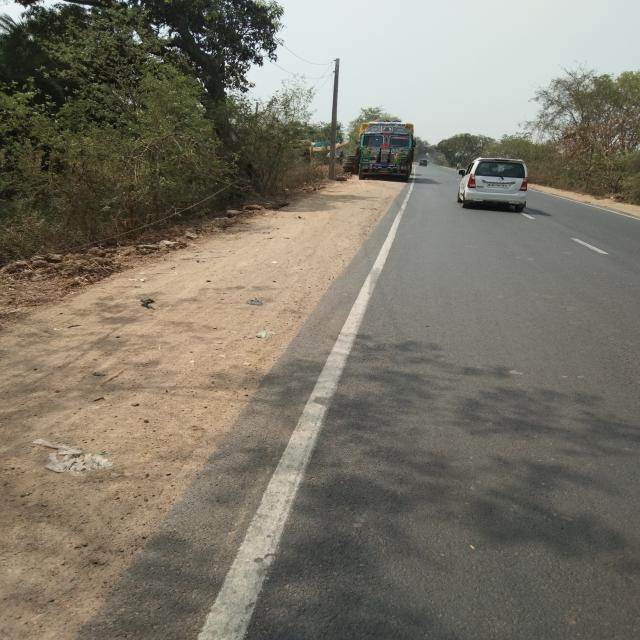car_back: (454, 152, 536, 216)
truck_front: (350, 114, 423, 182)
